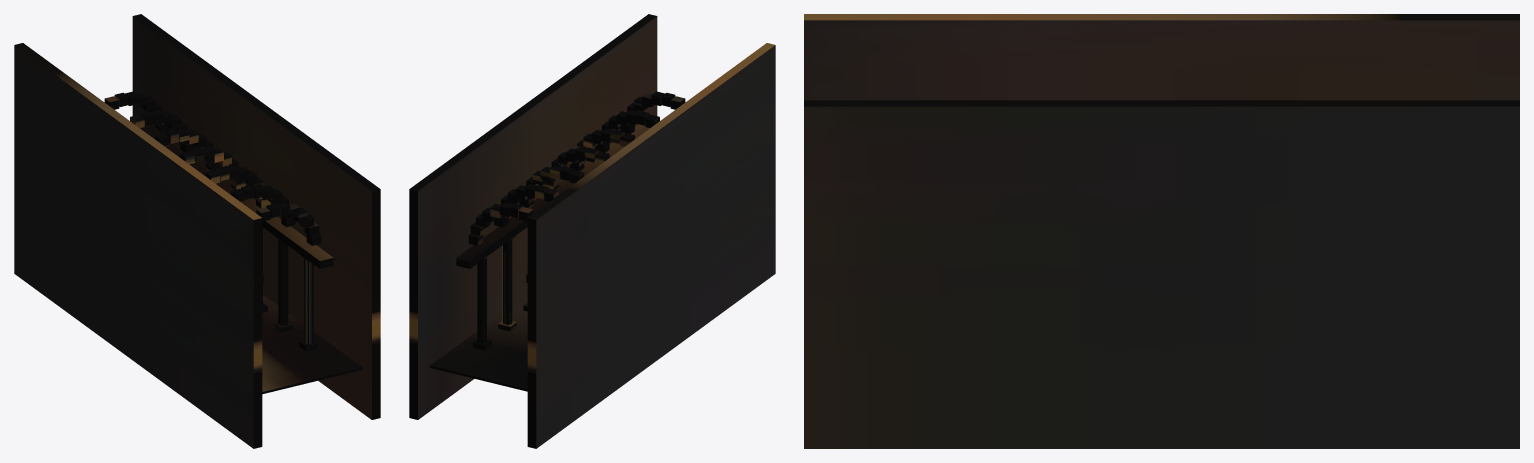
Rendered from hall_draco.glb.
3 renders of one model, left to right at view 1: azimuth 30°, elevation 25°; view 2: azimuth 150°, elevation 25°; view 3: azimuth 270°, elevation 25°, orthographic. The views are drawn at different scales.
Parts seen in each view (by area): view 1: hall; view 2: hall; view 3: hall.
Part boxes in pixels (x1,y1,x2,y2): hall: (14,14,380,448); hall: (409,14,775,448); hall: (804,14,1519,448).
Bounding box in the file's own units: 23.2 × 40 × 75.81.
Materials: 1 (1 with a texture image).
